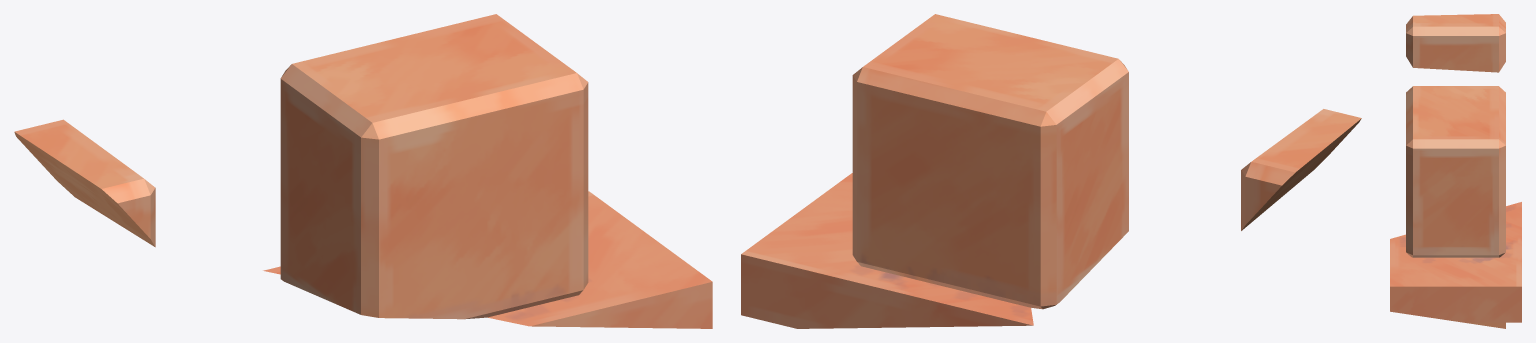
Rendered from parapet_crenel_s00.fbx.
The picture shows the model from 3 angles, left to right: view 1: azimuth 30°, elevation 25°; view 2: azimuth 150°, elevation 25°; view 3: azimuth 270°, elevation 25°; orthographic projection. The views are drawn at different scales.
Visible parts, largest first — view 1: parapet_crenel_s00; view 2: parapet_crenel_s00; view 3: parapet_crenel_s00.
Boxes of the visible parts, x1,y1,x2,y2 form: parapet_crenel_s00: (14, 14, 712, 328); parapet_crenel_s00: (741, 14, 1361, 328); parapet_crenel_s00: (1390, 14, 1521, 328).
Bounding box in the file's own units: 3.67 × 1.77 × 1.32.
